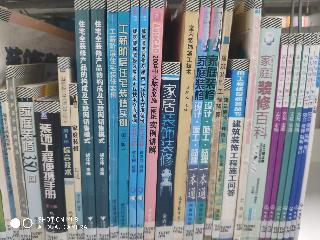book-spine: (238, 16, 282, 240), (193, 0, 223, 240), (170, 0, 199, 240), (182, 0, 211, 240), (277, 34, 310, 240), (234, 0, 262, 240), (205, 1, 233, 240), (284, 33, 316, 239), (272, 33, 303, 240), (258, 33, 288, 240), (266, 33, 296, 240), (290, 33, 320, 240), (217, 59, 249, 240), (75, 0, 96, 240), (142, 1, 163, 240), (153, 62, 180, 240), (294, 57, 320, 240), (6, 67, 31, 240), (92, 1, 110, 240), (36, 102, 66, 240), (18, 87, 45, 240), (1, 91, 24, 240), (135, 0, 149, 240), (58, 58, 76, 239), (213, 79, 231, 240), (107, 1, 118, 240), (128, 1, 139, 240), (119, 1, 130, 239), (71, 84, 84, 239)
